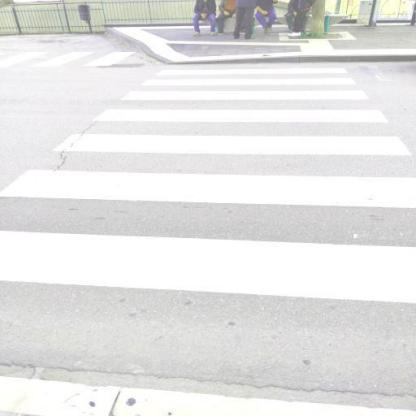crosswalk: (50, 105, 414, 164), (139, 64, 361, 89)
